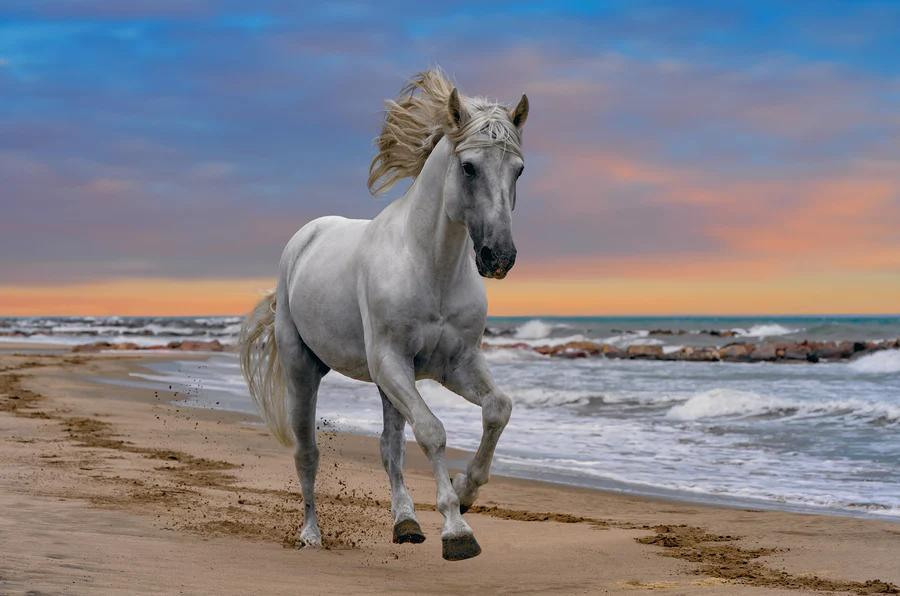horse: (237, 64, 529, 561)
